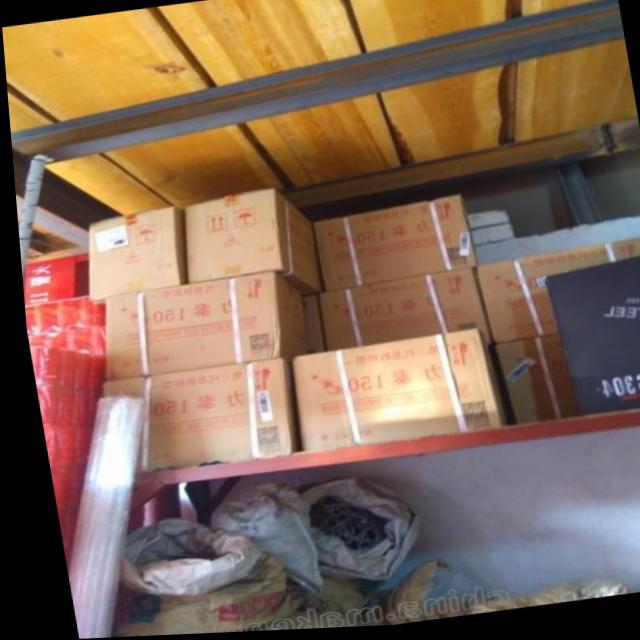box: (287, 333, 500, 453), (96, 363, 298, 473), (97, 275, 303, 381), (470, 242, 640, 348), (537, 259, 640, 422), (310, 200, 472, 293), (181, 192, 320, 299), (313, 271, 484, 353), (83, 208, 180, 300), (486, 338, 569, 429)
